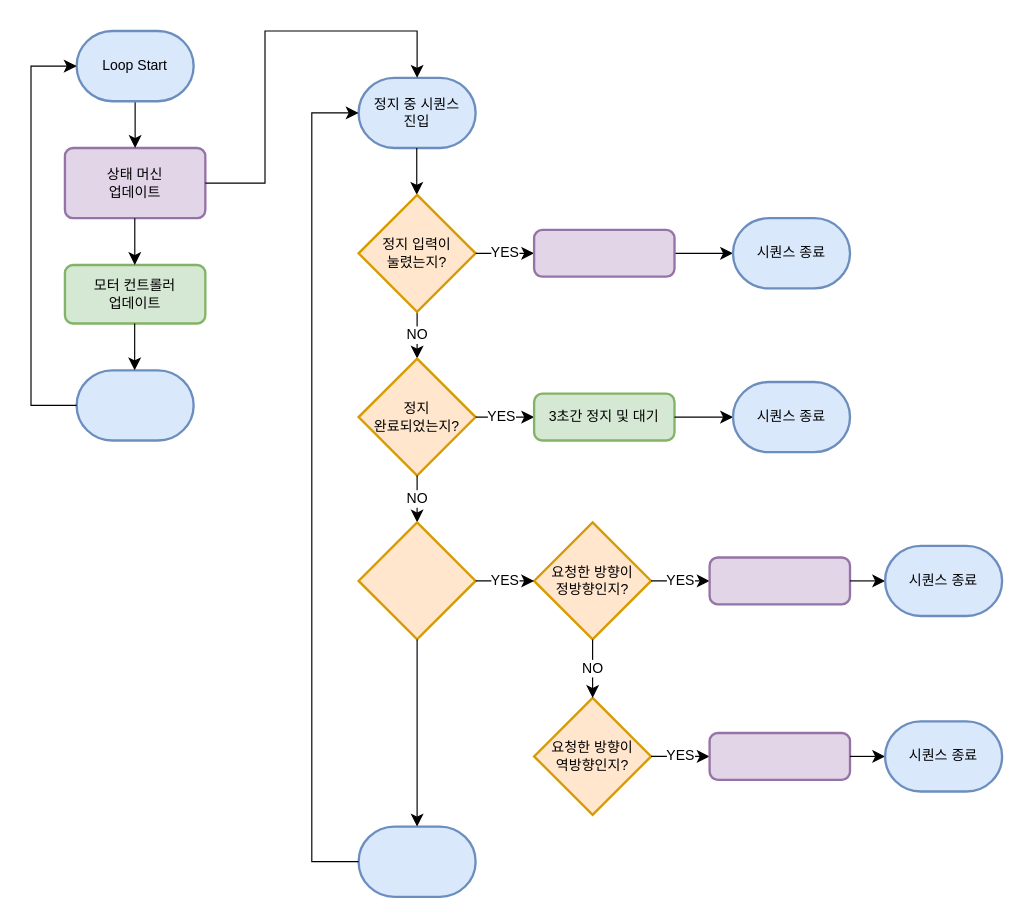
This 1024x918 diagram has some shape labels left out. Here are the shapes that lost their labels. From the top down, the centre of each, then its label:
At point (603, 252): "상태 머신에 정지 시퀀스 요청".
At point (134, 405): "Loop End".
At point (416, 580): "대기 완료되었는지?".
At point (779, 580): "상태 머신에 정방향 시퀀스 요청".
At point (779, 755): "상태 머신에 역방향 시퀀스 요청".
At point (416, 861): "정지 중 시퀀스 종료".
